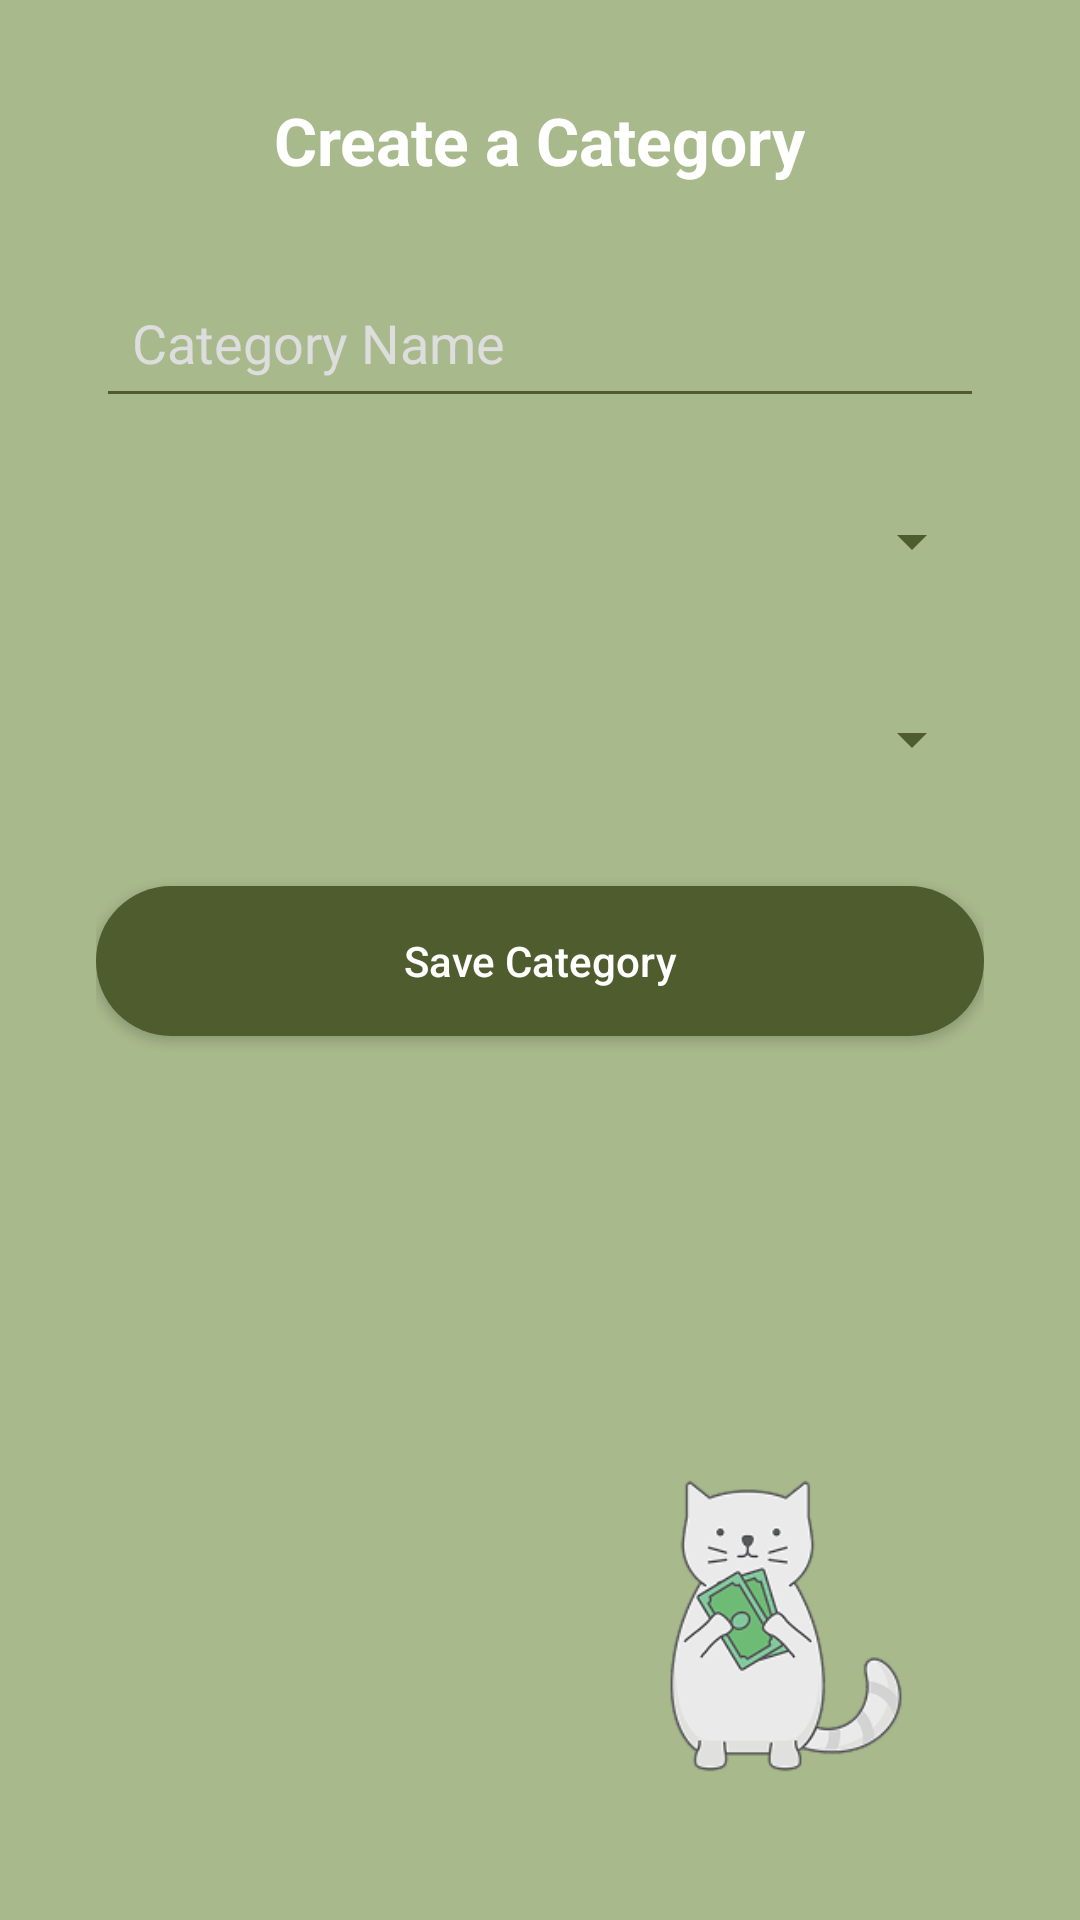

Named icons in this screenshot (1080 × 1920) and their centers, [x,y]:
cat: [786,1626]
